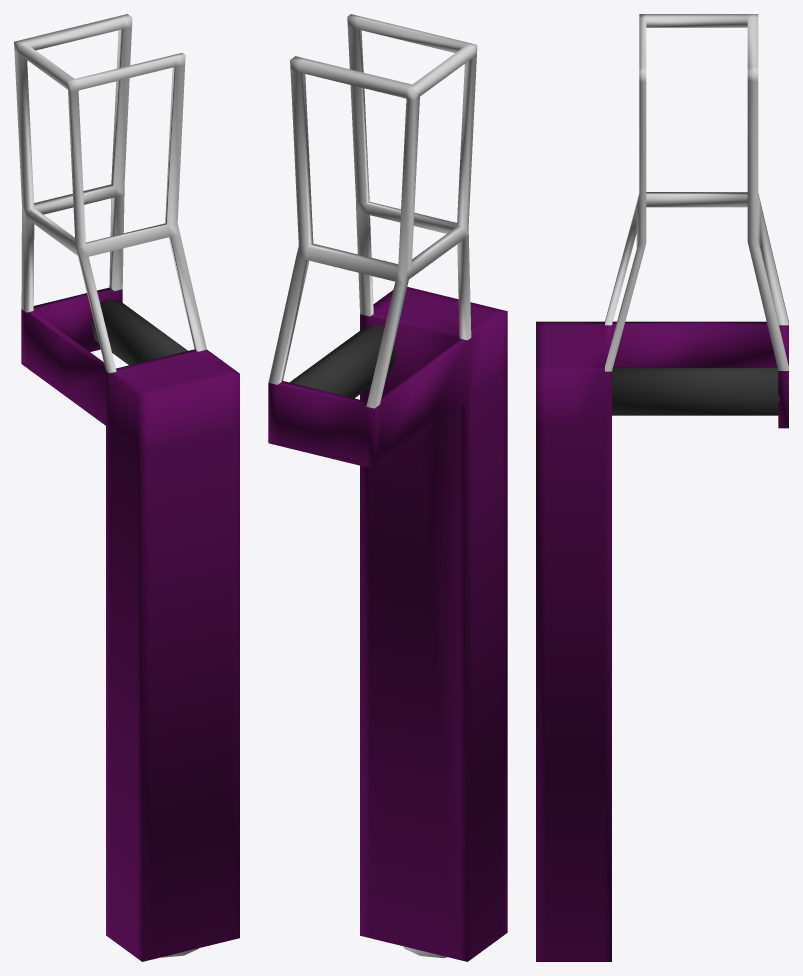
The model's file is MechPHGunRight01.dae.
The picture shows the model from 3 angles, left to right: view 1: azimuth 30°, elevation 25°; view 2: azimuth 150°, elevation 25°; view 3: azimuth 270°, elevation 25°; orthographic projection. The views are drawn at different scales.
Parts seen in each view (by area): view 1: MechPHGunRight01; view 2: MechPHGunRight01; view 3: MechPHGunRight01.
Part boxes in pixels (bbox=[...]): MechPHGunRight01: bbox=[14, 14, 239, 961]; MechPHGunRight01: bbox=[268, 14, 507, 961]; MechPHGunRight01: bbox=[536, 14, 788, 961].
Bounding box in the file's own units: 0.4366 × 0.7633 × 2.99.
